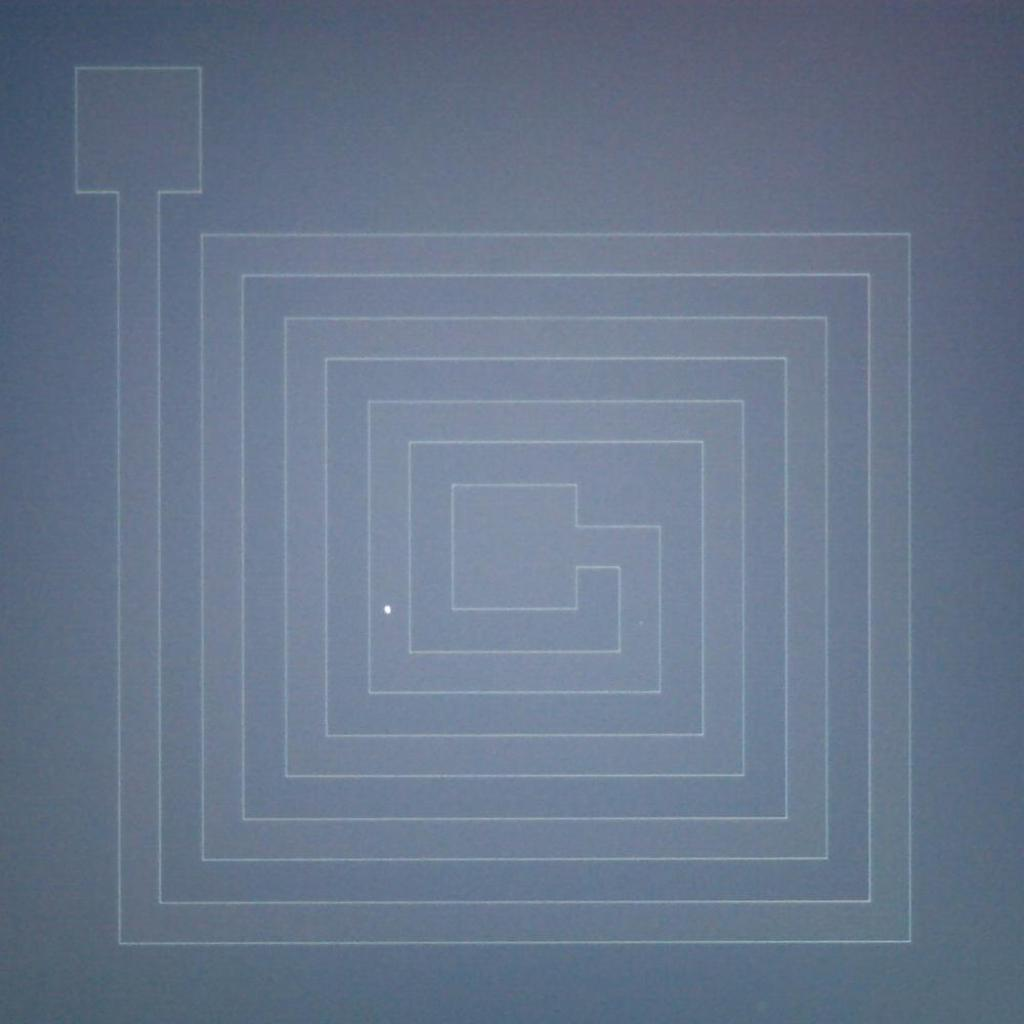dot: (384, 606, 392, 614), (638, 620, 644, 625)
